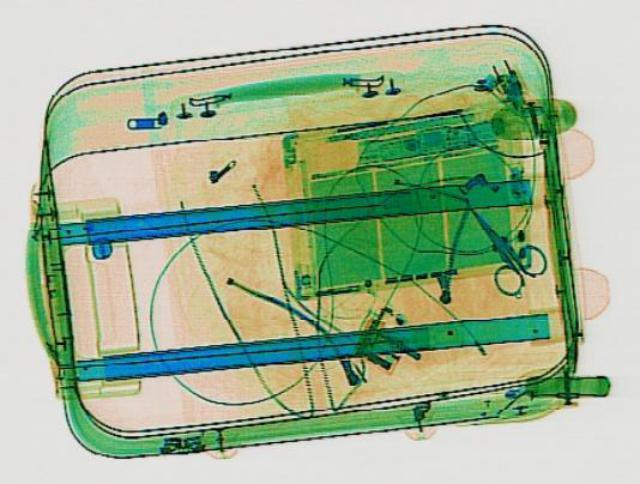Scissors: (442, 195, 562, 295)
